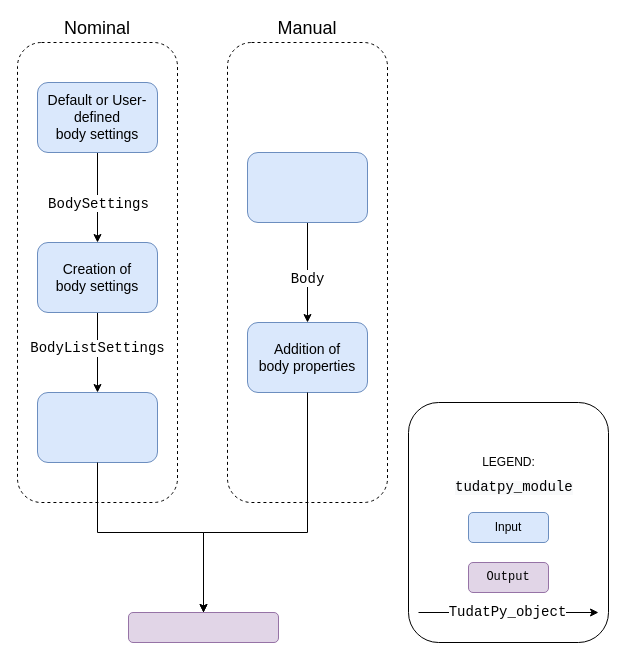
Image size: 626x668. Some labels were removed from this diagram. Here are the shapes that lost their labels. From the top down, the centre of each, then its label:
At pixel 307 187: "Creation of empty body".
At pixel 97 427: "Creation of body system".
At pixel 203 627: "SystemOfBodies".
